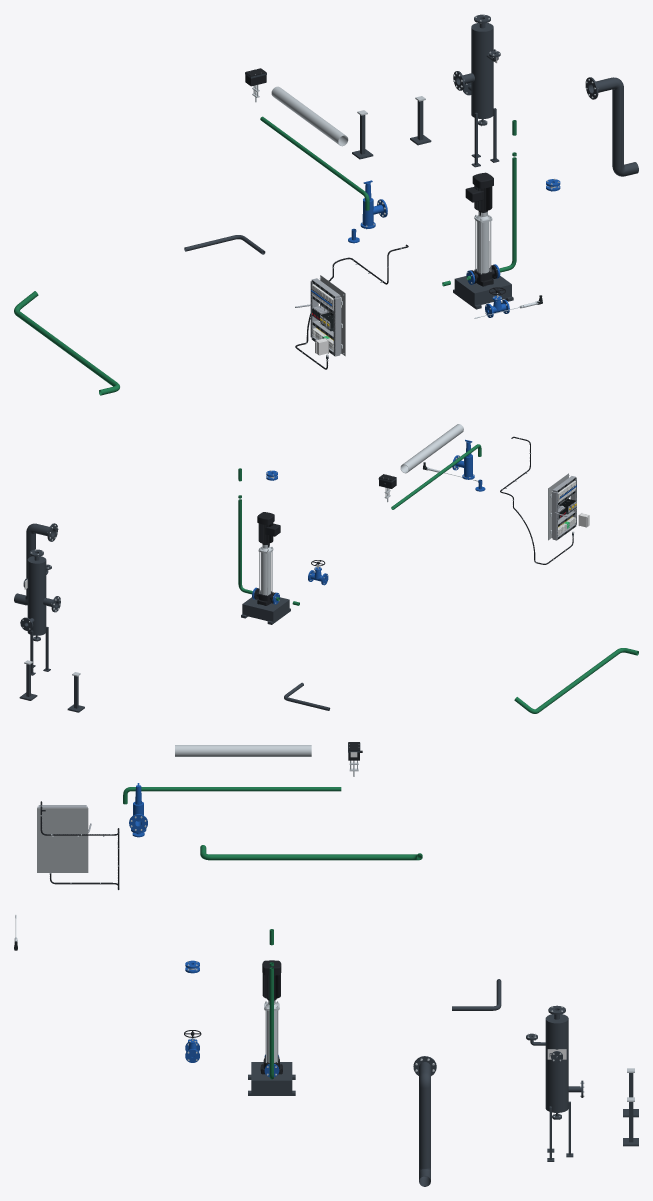
3 views of the same model, one above another, from view 1: azimuth 30°, elevation 25°; view 2: azimuth 150°, elevation 25°; view 3: azimuth 270°, elevation 25° (orthographic). The views are drawn at different scales.
Parts seen in each view (by area): view 1: separator_fv8 / dark, cabinet_interior / cabinet_interior_0.npz, bdv_water_drain / dark, pump_branch_2 / dark, steam_delivery / steel, deaerator_feed / green, pump_2 CAD solid 15, pump_branch_2 / green, trap_support / dark, direct_inlet / green, safety_2 / blue, pump_2 CAD solid 2; view 2: separator_fv8 / dark, cabinet_interior / cabinet_interior_0.npz, pump_branch_2 / dark, deaerator_feed / green, bdv_water_drain / dark, steam_delivery / steel, pump_2 CAD solid 15, pump_branch_2 / green, trap_support / dark, direct_inlet / green; view 3: cabinet_interior / cabinet_interior_0.npz, separator_fv8 / dark, bdv_water_drain / dark, steam_delivery / steel, deaerator_feed / green, pump_branch_2 / dark, direct_inlet / green, pump_branch_2 / green.
Boxes of the visible parts, box(x1,y1,x2,y2) form: separator_fv8 / dark: box(453, 14, 500, 167); cabinet_interior / cabinet_interior_0.npz: box(295, 275, 345, 356); bdv_water_drain / dark: box(585, 77, 638, 176); pump_branch_2 / dark: box(453, 276, 513, 309); steam_delivery / steel: box(271, 86, 348, 146); deaerator_feed / green: box(14, 291, 119, 395); pump_2 CAD solid 15: box(465, 172, 493, 211); pump_branch_2 / green: box(442, 120, 516, 286); trap_support / dark: box(352, 101, 431, 159); direct_inlet / green: box(260, 116, 369, 210); safety_2 / blue: box(360, 180, 387, 228); pump_2 CAD solid 2: box(477, 221, 489, 273); separator_fv8 / dark: box(20, 549, 60, 675); cabinet_interior / cabinet_interior_0.npz: box(548, 473, 576, 540); pump_branch_2 / dark: box(241, 597, 290, 624); deaerator_feed / green: box(514, 648, 638, 713); bdv_water_drain / dark: box(14, 523, 58, 605); steam_delivery / steel: box(400, 424, 463, 473); pump_2 CAD solid 15: box(257, 512, 280, 544); pump_branch_2 / green: box(238, 468, 299, 605); trap_support / dark: box(19, 664, 84, 712); direct_inlet / green: box(391, 444, 481, 509); cabinet_interior / cabinet_interior_0.npz: box(37, 805, 91, 872); separator_fv8 / dark: box(526, 1005, 583, 1161); bdv_water_drain / dark: box(413, 1056, 436, 1186); steam_delivery / steel: box(175, 745, 311, 756); deaerator_feed / green: box(200, 845, 422, 860); pump_branch_2 / dark: box(248, 1062, 295, 1095); direct_inlet / green: box(123, 787, 341, 804); pump_branch_2 / green: box(269, 929, 273, 1079).
Bounding box in the file's own units: 7.22 × 2.59 × 5.92.
